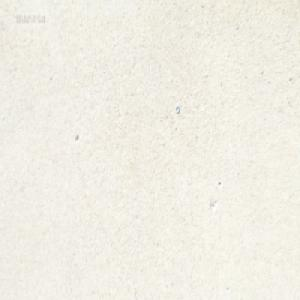Washer: (175, 103, 180, 114)
